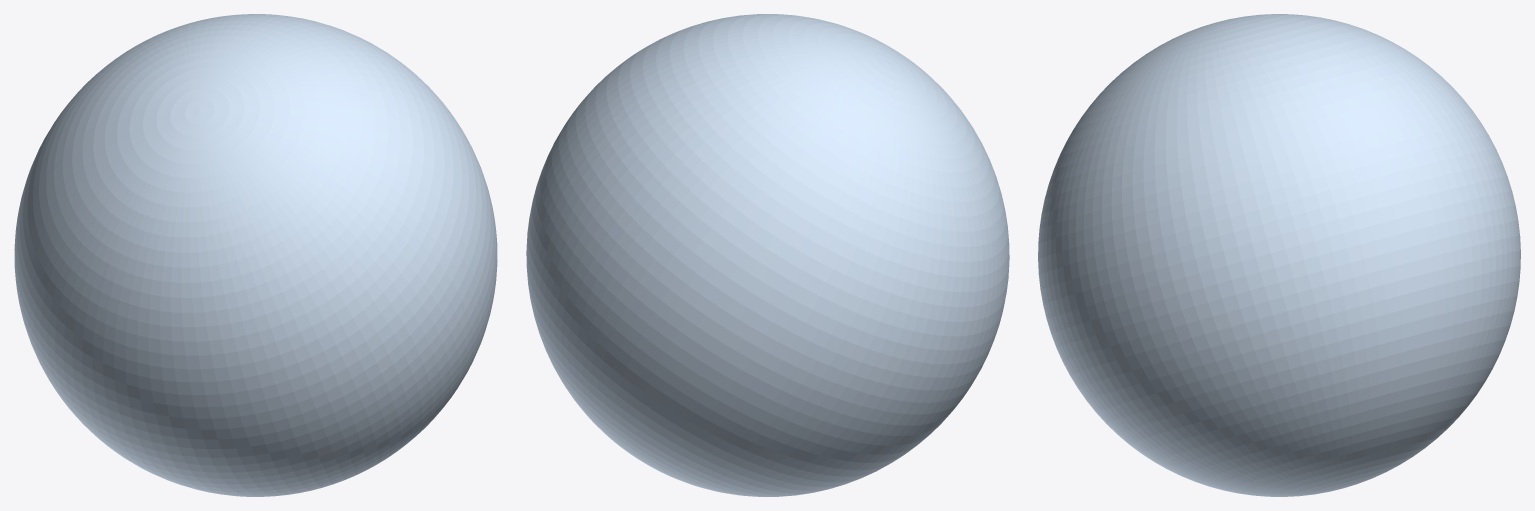
File: atom.glb
3 renders of one model, left to right at view 1: azimuth 30°, elevation 25°; view 2: azimuth 150°, elevation 25°; view 3: azimuth 270°, elevation 25°, orthographic.
Parts seen in each view (by area): view 1: Circle010; view 2: Circle010; view 3: Circle010.
Part boxes in pixels (left/top/right/bottom): Circle010: left=14, top=14, right=497, bottom=496; Circle010: left=526, top=14, right=1009, bottom=496; Circle010: left=1038, top=14, right=1520, bottom=496.
Size of the model in its own units: 8.83 by 8.83 by 8.82.
